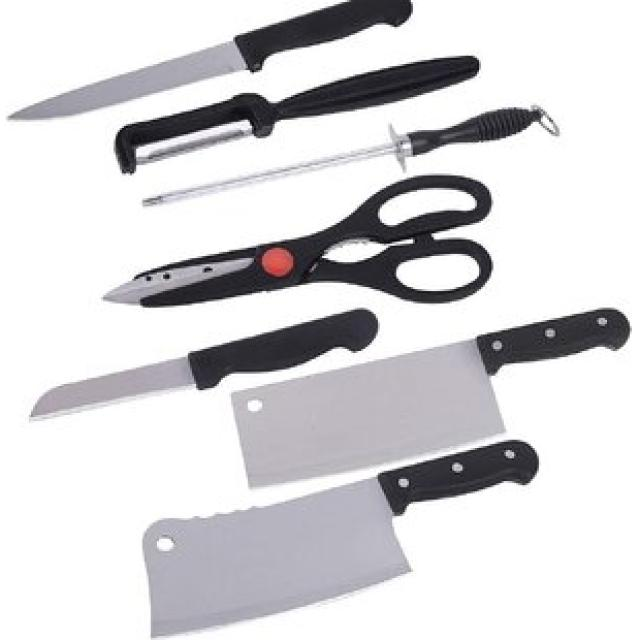Weapon: (145, 440, 537, 634), (233, 308, 630, 485), (105, 175, 489, 306), (8, 0, 411, 118), (142, 105, 557, 206), (118, 60, 477, 171), (29, 310, 376, 417), (105, 268, 202, 303), (465, 109, 535, 138)
